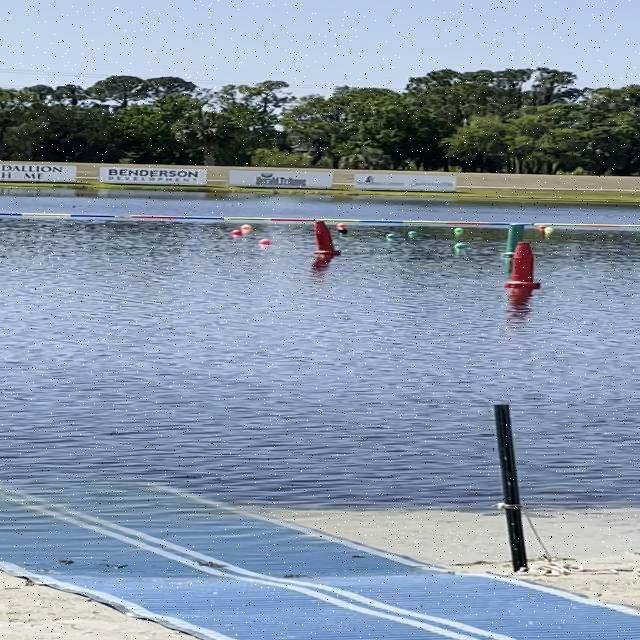buoy: (444, 227, 471, 236), (236, 222, 256, 232), (384, 233, 402, 243), (450, 242, 470, 251), (256, 238, 278, 246), (406, 230, 426, 238), (228, 229, 245, 237), (336, 228, 353, 235), (544, 226, 554, 234), (336, 222, 350, 227), (537, 224, 546, 231)
